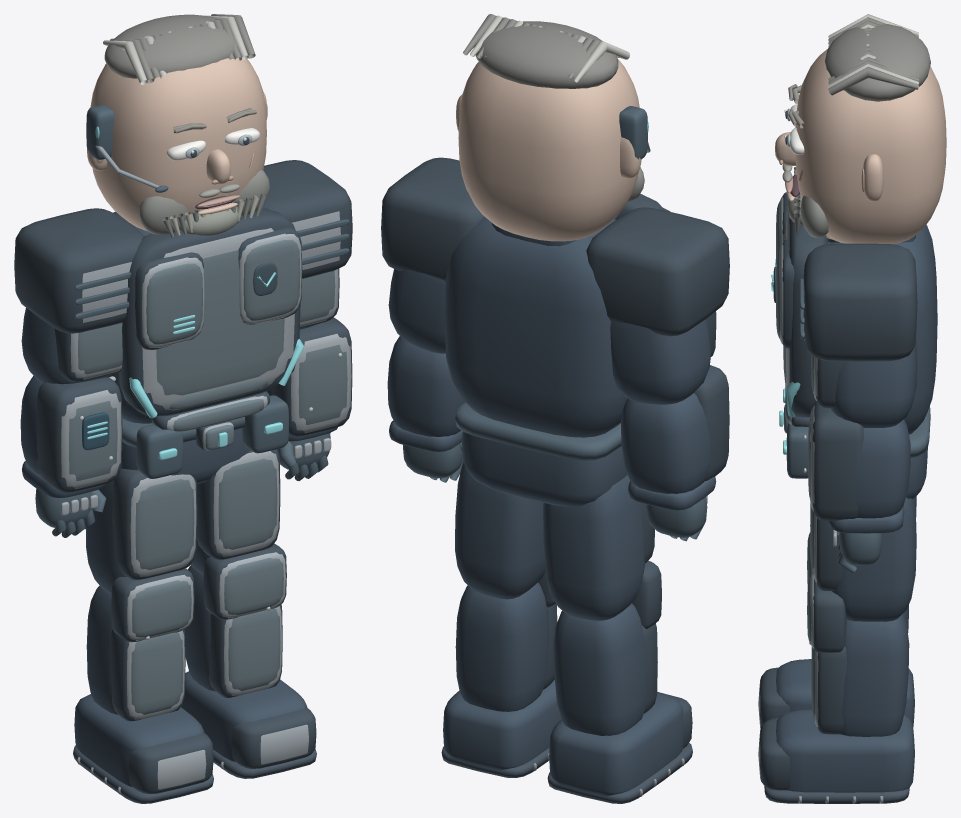
Rendered from thomas_hawthorne.glb.
3 views of the same model, side by side, from view 1: azimuth 30°, elevation 25°; view 2: azimuth 150°, elevation 25°; view 3: azimuth 270°, elevation 25° (orthographic). The views are drawn at different scales.
Parts seen in each view (by area): view 1: Face, Pauldron -1 recessed edge, Breastplate face, Breastplate recessed edge, R foot boot, Hair scalp, Pauldron 1 recessed edge, Thigh 1 face, Thigh -1 face, L foot boot, Bracer -1 recessed edge, Chest wing -1 face (+59 smaller); view 2: Puffer body, Face, Pauldron -1 recessed edge, R thigh, R shin, L shin, L thigh, Pauldron 1 recessed edge, R foot boot, R lowerArm, Pants hips, R upperArm (+18 smaller); view 3: Face, Pauldron 1 recessed edge, L foot boot, L shin, L thigh, Hair scalp, L upperArm, Bracer 1 recessed edge, L lowerArm, Puffer body, Breastplate recessed edge, Shin 1 recessed edge (+21 smaller).
Boxes of the visible parts, x1,y1,x2,y2 form: Face: [90, 57, 266, 231]; Pauldron -1 recessed edge: [14, 208, 144, 333]; Breastplate face: [156, 250, 284, 395]; Breastplate recessed edge: [119, 208, 300, 416]; R foot boot: [74, 694, 204, 786]; Hair scalp: [104, 14, 237, 78]; Pauldron 1 recessed edge: [262, 160, 352, 278]; Thigh 1 face: [218, 459, 277, 549]; Thigh -1 face: [135, 479, 194, 569]; L foot boot: [181, 671, 307, 761]; Bracer -1 recessed edge: [36, 377, 122, 492]; Chest wing -1 face: [146, 263, 202, 344]; Puffer body: [444, 216, 627, 437]; Face: [458, 58, 639, 241]; Pauldron -1 recessed edge: [586, 207, 729, 336]; R thigh: [543, 475, 644, 620]; R shin: [553, 603, 647, 735]; L shin: [455, 582, 548, 711]; L thigh: [455, 462, 545, 599]; Pauldron 1 recessed edge: [381, 157, 484, 281]; R foot boot: [549, 693, 683, 796]; R lowerArm: [621, 393, 711, 493]; Pants hips: [462, 431, 627, 506]; R upperArm: [610, 319, 711, 404]; Face: [795, 49, 946, 244]; Pauldron 1 recessed edge: [803, 243, 917, 361]; L foot boot: [776, 709, 914, 792]; L shin: [840, 613, 909, 736]; L thigh: [832, 497, 916, 621]; Hair scalp: [824, 24, 930, 101]; L upperArm: [830, 338, 917, 427]; Bracer 1 recessed edge: [812, 401, 863, 520]; L lowerArm: [853, 419, 910, 518]; Puffer body: [828, 224, 937, 434]; Breastplate recessed edge: [789, 218, 828, 417]; Shin 1 recessed edge: [817, 646, 846, 734].
Bounding box in the file's own units: 1.82 × 4.17 × 0.9868.
